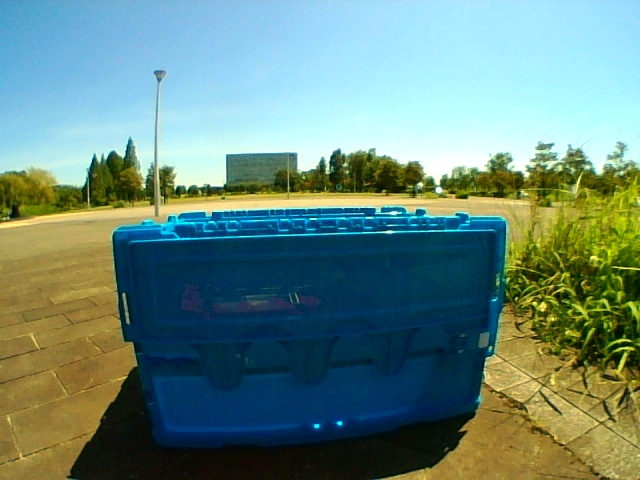blue_box: (146, 218, 475, 412)
